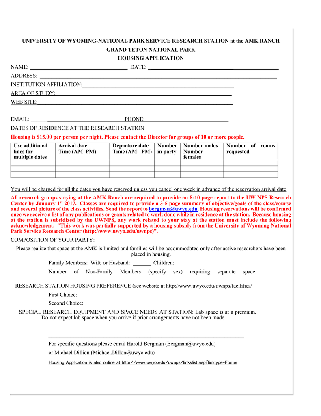textbox: (222, 158, 280, 167), (223, 170, 280, 179), (178, 170, 225, 180), (54, 159, 111, 167), (55, 170, 111, 178), (108, 170, 156, 179), (108, 158, 155, 167), (108, 164, 155, 173), (179, 158, 225, 167), (179, 164, 225, 173), (54, 165, 111, 172), (223, 165, 280, 172), (9, 165, 56, 173), (10, 159, 56, 167), (10, 171, 56, 178), (153, 158, 182, 166), (153, 171, 182, 179), (153, 165, 182, 172)
textline: (38, 72, 278, 80), (39, 97, 234, 106), (56, 89, 234, 98), (48, 323, 254, 330), (83, 80, 236, 89), (46, 333, 246, 339), (148, 62, 280, 71), (146, 113, 230, 124), (30, 62, 129, 71), (32, 114, 124, 123), (69, 275, 178, 282), (133, 260, 152, 267)
